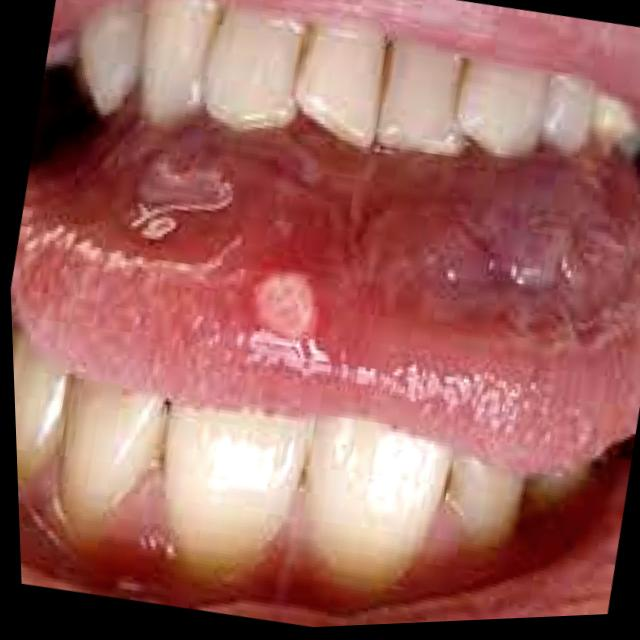ulcer: (257, 275, 315, 338)
